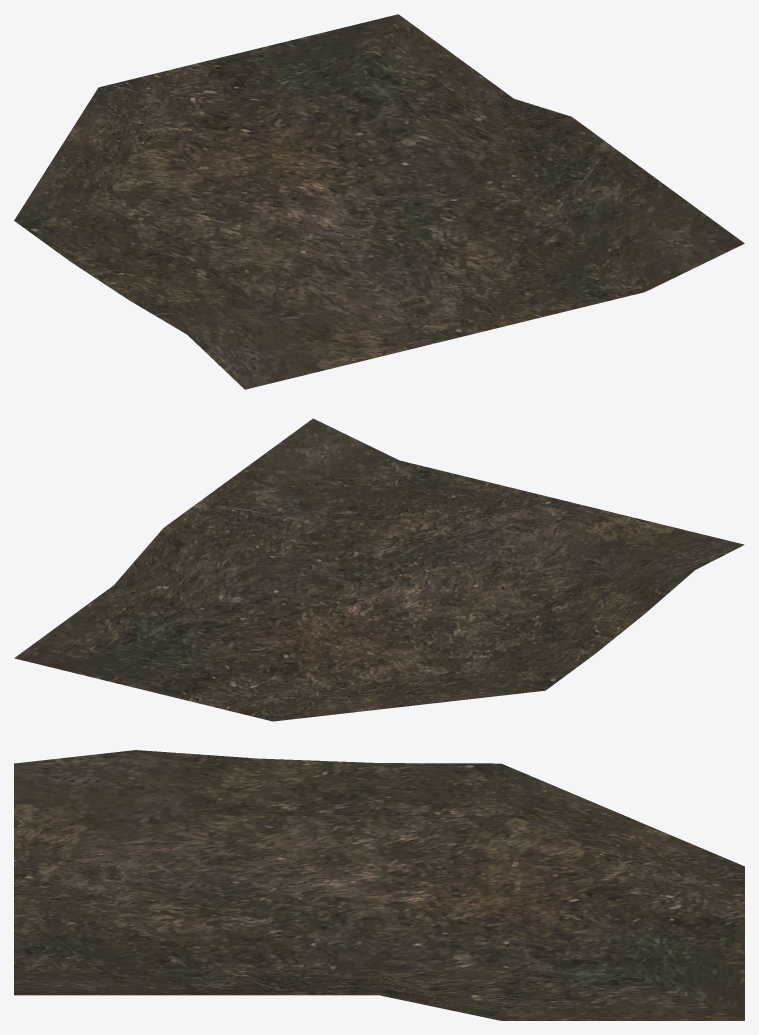
File: blend_weeds02.fbx
3 views of the same model, one above another, from view 1: azimuth 30°, elevation 25°; view 2: azimuth 150°, elevation 25°; view 3: azimuth 270°, elevation 25° (orthographic). The views are drawn at different scales.
Visible parts, largest first — view 1: New_terrain/weeds_shadow; view 2: New_terrain/weeds_shadow; view 3: New_terrain/weeds_shadow.
Part boxes in pixels (<box>): New_terrain/weeds_shadow: <box>14,14,744,389</box>; New_terrain/weeds_shadow: <box>14,418,744,721</box>; New_terrain/weeds_shadow: <box>14,750,744,1020</box>.
Bounding box in the file's own units: 12.5 × 0.5787 × 15.
